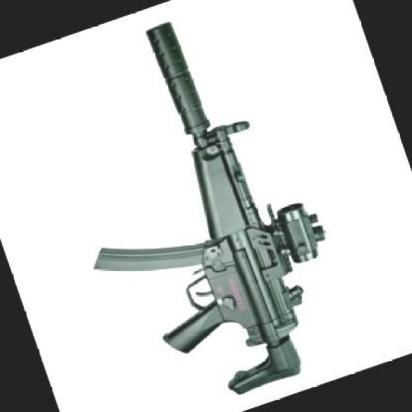Gun: (30, 0, 364, 412)
